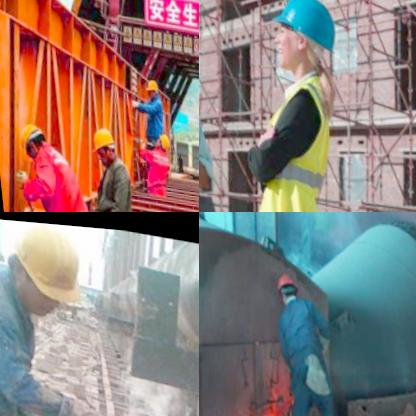helmet: (0, 217, 98, 323), (258, 0, 345, 85), (10, 119, 46, 163), (83, 123, 114, 169), (268, 268, 298, 308), (146, 126, 169, 155), (138, 74, 155, 95)
